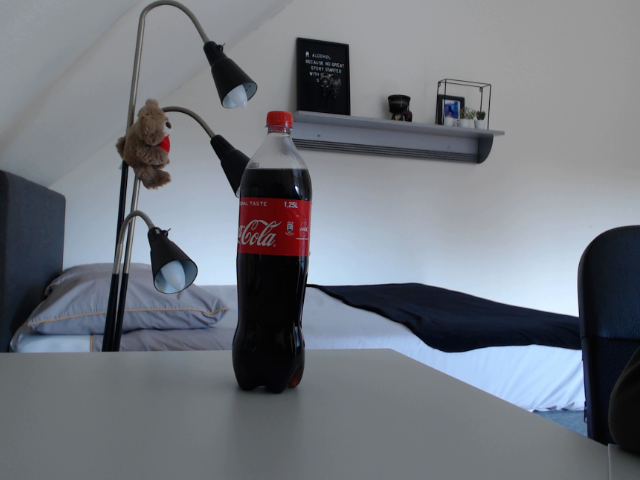bottle: (231, 110, 312, 394)
